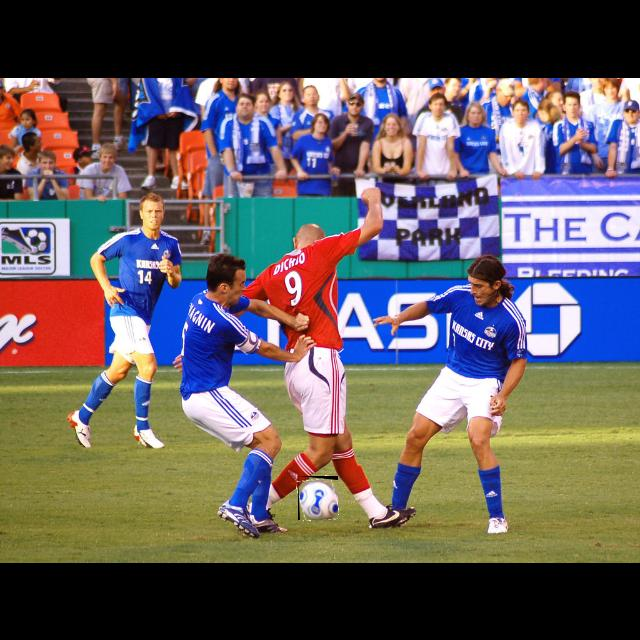Football: (298, 476, 338, 520)
